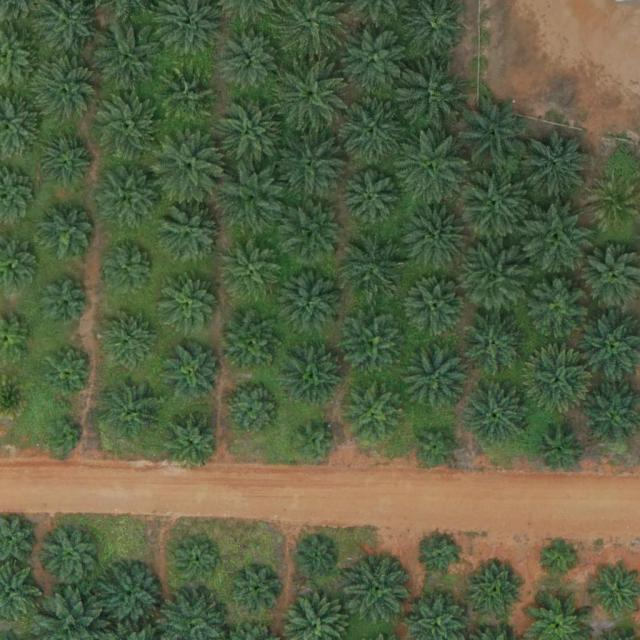Healthy: (524, 131, 595, 202), (460, 100, 531, 171), (275, 127, 346, 198), (524, 349, 594, 420), (523, 203, 593, 274), (461, 166, 531, 237), (459, 244, 529, 315), (400, 62, 470, 133), (276, 62, 347, 132), (215, 95, 285, 166), (219, 162, 289, 233), (155, 130, 225, 201), (92, 92, 162, 163), (398, 133, 468, 203), (338, 99, 408, 169), (339, 27, 409, 97), (94, 22, 164, 92), (405, 277, 468, 340), (405, 345, 468, 408), (342, 234, 405, 297), (222, 312, 285, 375), (159, 203, 222, 266), (160, 410, 223, 473), (34, 56, 97, 119), (349, 558, 412, 621), (527, 279, 589, 342), (464, 317, 526, 380), (466, 384, 528, 447), (405, 206, 467, 269), (344, 313, 406, 376), (344, 383, 406, 446), (285, 203, 347, 266), (281, 271, 343, 334), (282, 347, 344, 410), (223, 239, 285, 302), (159, 275, 221, 338), (99, 168, 161, 231), (102, 379, 164, 442), (99, 565, 161, 628), (343, 173, 398, 228), (226, 383, 281, 438), (161, 69, 216, 124), (100, 240, 155, 295), (37, 134, 92, 189), (224, 33, 279, 88), (42, 529, 97, 584), (472, 564, 527, 619), (167, 346, 221, 401), (102, 310, 156, 365), (41, 208, 95, 263), (537, 429, 584, 476), (46, 348, 93, 395)
Small: (174, 539, 221, 587), (41, 280, 88, 327), (235, 567, 282, 614), (415, 425, 462, 472), (292, 420, 339, 467), (47, 418, 86, 458), (539, 537, 578, 577), (298, 538, 337, 577), (423, 537, 462, 576)
